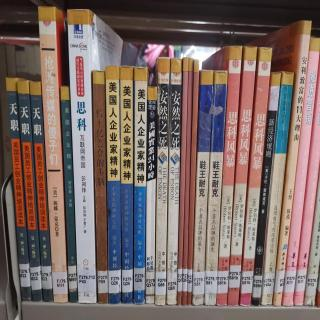book-spine: (271, 17, 311, 307), (282, 38, 320, 307), (221, 47, 257, 308), (37, 5, 68, 304), (239, 47, 274, 308), (68, 9, 97, 304), (259, 73, 294, 308), (214, 46, 244, 308), (250, 74, 280, 308), (3, 75, 33, 302), (291, 73, 320, 306), (16, 79, 43, 302), (189, 69, 214, 307), (29, 80, 54, 303), (204, 71, 227, 306), (55, 86, 79, 304), (154, 56, 171, 306), (165, 58, 182, 306), (104, 64, 121, 305), (92, 71, 109, 305), (131, 66, 147, 305), (120, 66, 135, 304), (175, 58, 189, 307), (144, 85, 159, 305), (186, 60, 199, 306), (181, 58, 193, 307)
